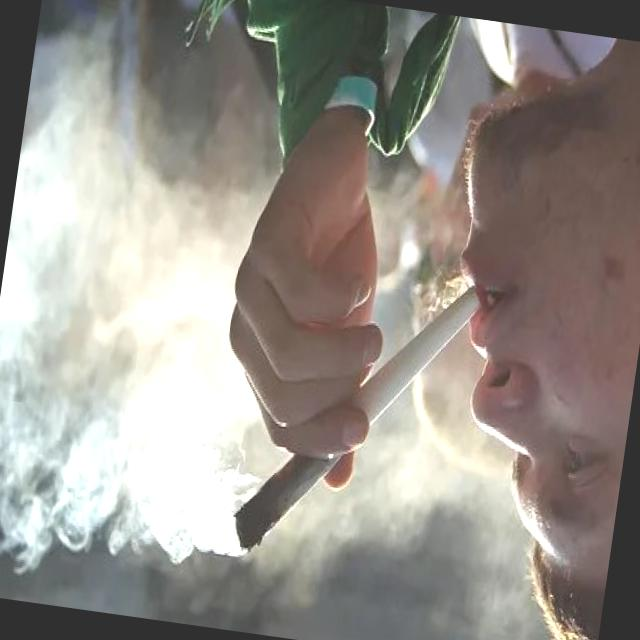smoke: (220, 253, 482, 578)
